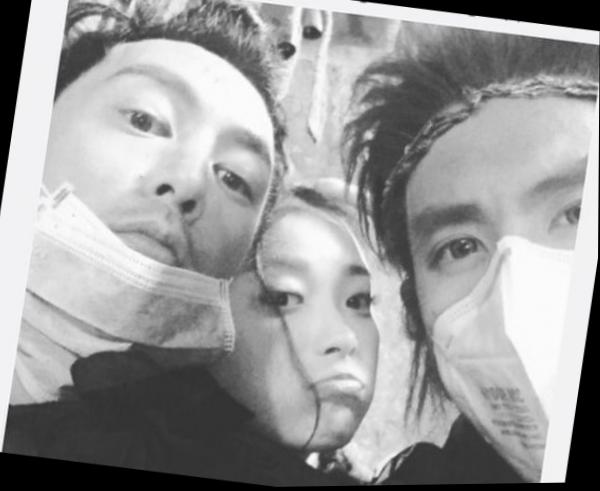NONE: (215, 226, 393, 459)
OK: (362, 129, 591, 487)
WRONG: (27, 81, 284, 339)
